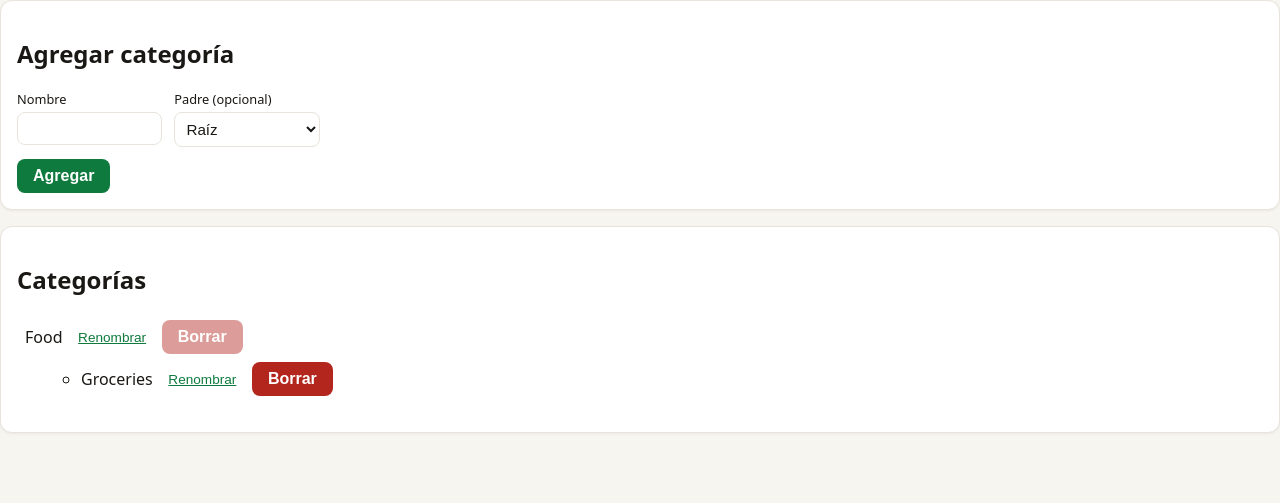
Scenario: CategoriesPage › keeps the rename input open with the typed value and shows role=alert when the rename fails (P2)
Expected: the button with test id "delete-1" is shown, [162,320,243,354]
Click the button with test id "rename-btn-1".
click(112, 337)  # box [72,328,152,346]
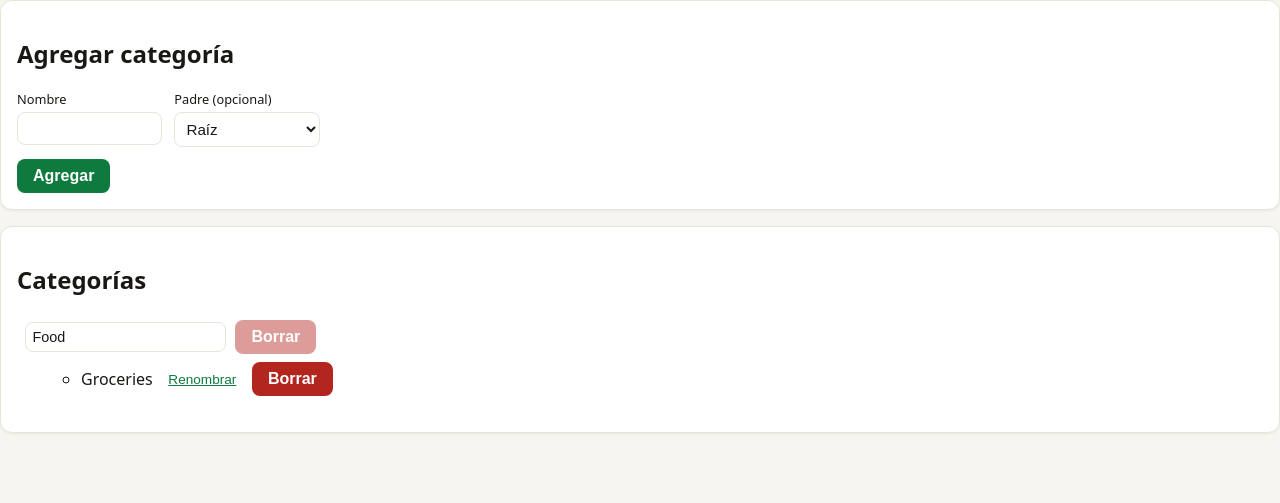
Expected: the field named "Nuevo nombre de Food" is shown
Replace the text in the field with test id "rename-1" with "Mercado" at (125, 337), box [25,322,226,352]
Then press Enter
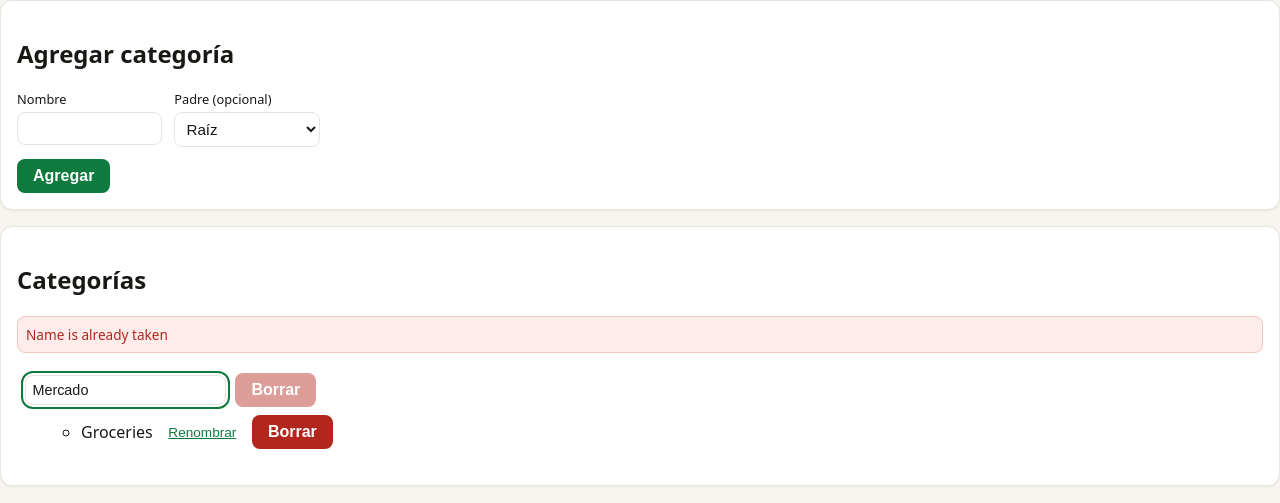
Expected: the message reads "Name is already taken", [26,325,168,344]
